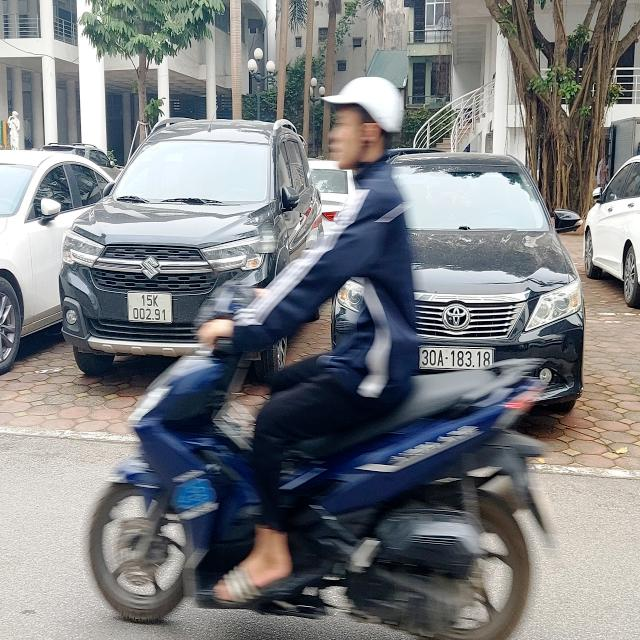license_plate: (419, 348, 494, 372), (129, 292, 173, 323)
